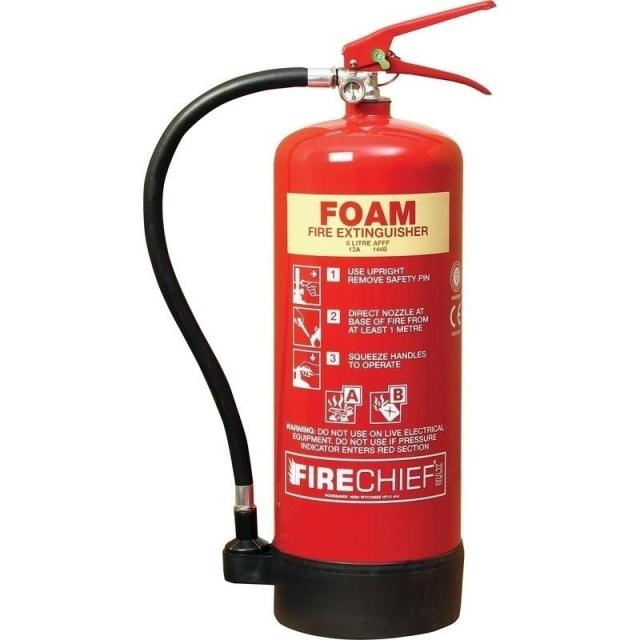fire_extinguisher: (138, 0, 502, 639)
